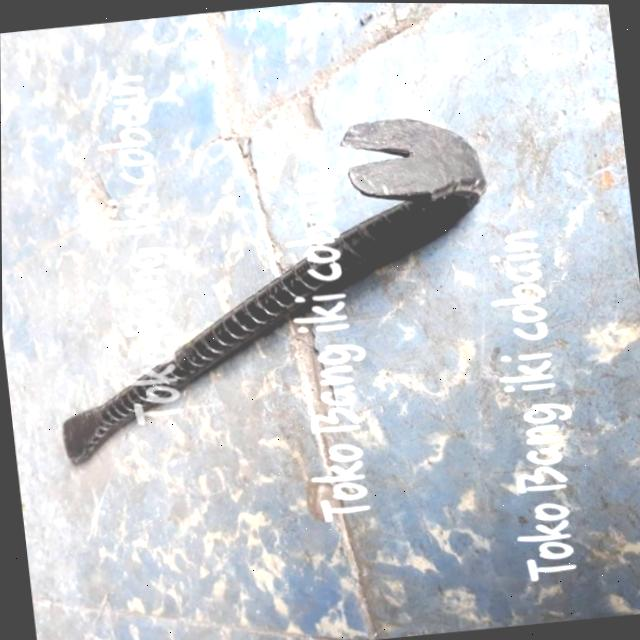crow bar: (48, 117, 496, 467)
